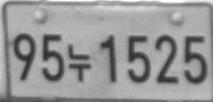1: (97, 33, 123, 83)
2: (154, 33, 179, 84)
5: (40, 32, 66, 82), (126, 34, 151, 84), (183, 34, 208, 84)
9: (12, 31, 37, 81)
누: (67, 42, 92, 82)
